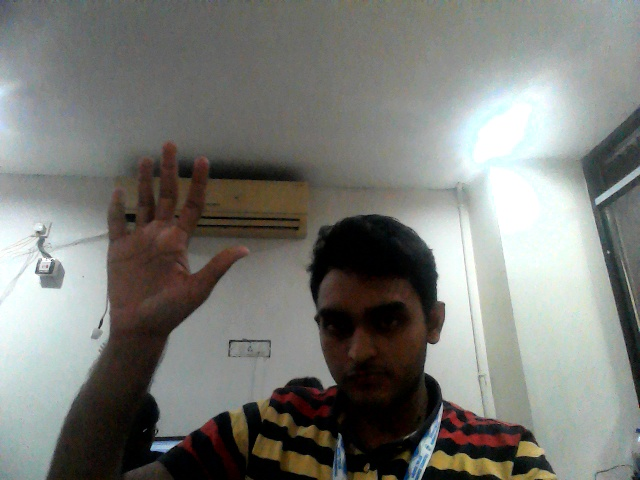palm: (100, 136, 253, 334)
